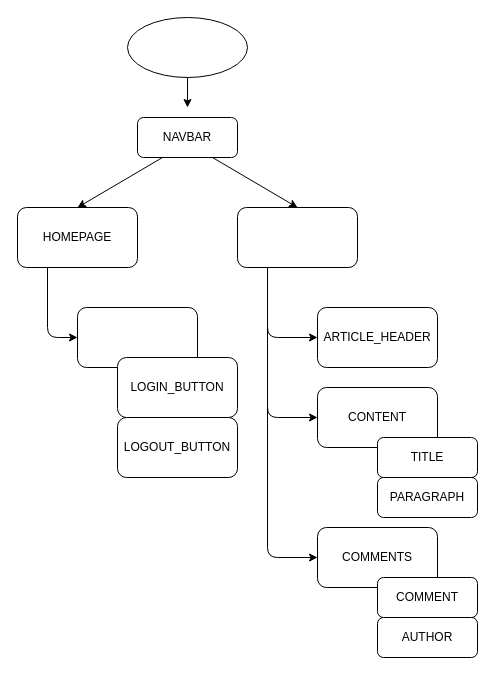
Some shapes in this 495 by 675 pixel diagram are drawn without their labels. The shapes that lost their labels are listed below. From the top down, each one's box as (x1, y1, x2, y2) in pixels, then its label:
(126, 16, 248, 78): APP
(236, 206, 358, 268): ARTICLE
(76, 306, 198, 368): USER
